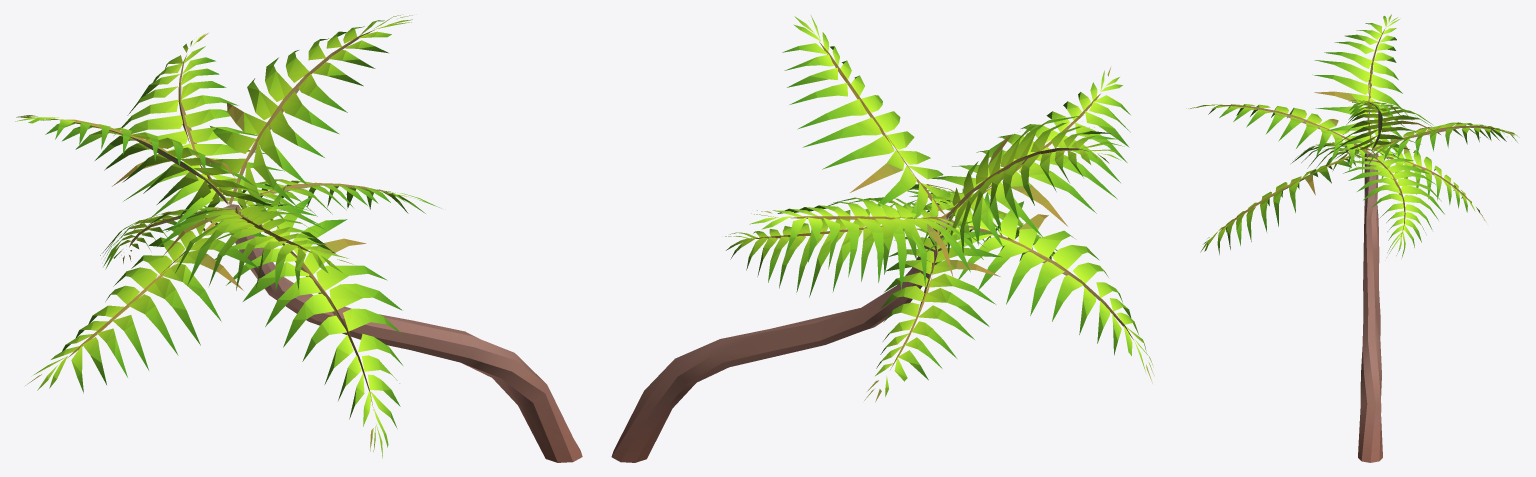
The picture shows the model from 3 angles, left to right: view 1: azimuth 30°, elevation 25°; view 2: azimuth 150°, elevation 25°; view 3: azimuth 270°, elevation 25°; orthographic projection. The views are drawn at different scales.
Parts seen in each view (by area): view 1: TropicalPalmPC; view 2: TropicalPalmPC; view 3: TropicalPalmPC.
Boxes of the visible parts, box(x1,y1,x2,y2) form: TropicalPalmPC: box(15, 15, 582, 462); TropicalPalmPC: box(611, 15, 1154, 462); TropicalPalmPC: box(1186, 14, 1519, 462).
Bounding box in the file's own units: 60 × 49.97 × 50.07.
1 material, 1 textured.
